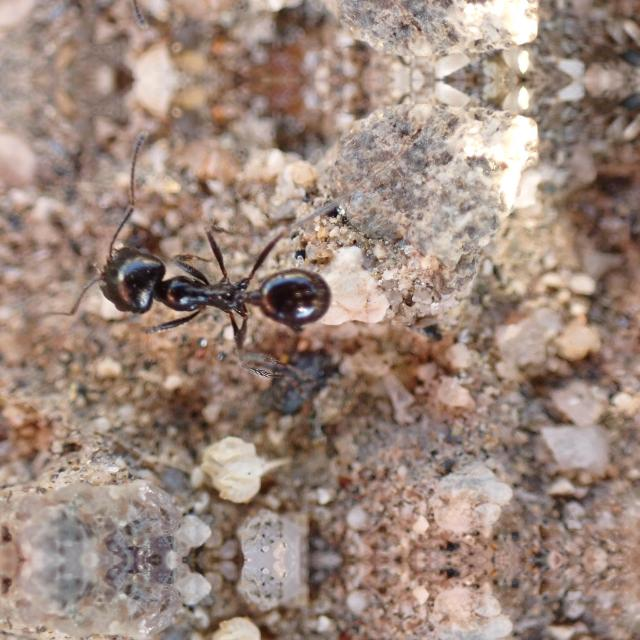Messor: (72, 222, 342, 354)
